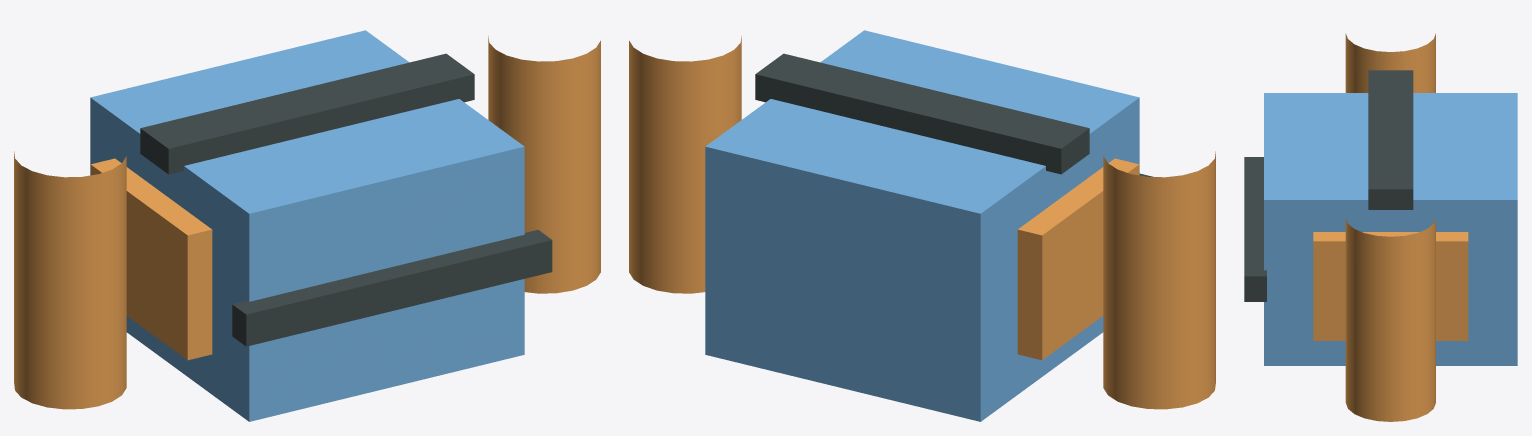
File: industrial-prop.glb
The picture shows the model from 3 angles, left to right: view 1: azimuth 30°, elevation 25°; view 2: azimuth 150°, elevation 25°; view 3: azimuth 270°, elevation 25°; orthographic projection. The views are drawn at different scales.
Parts seen in each view (by area): view 1: reinforced_crate_body, fuel_canister_a, fuel_canister_b, crate_top_strap, crate_front_strap, crate_side_marker_l; view 2: reinforced_crate_body, fuel_canister_a, fuel_canister_b, crate_top_strap, crate_side_marker_l; view 3: reinforced_crate_body, fuel_canister_b, crate_side_marker_r, crate_top_strap, fuel_canister_a, crate_front_strap.
Boxes of the visible parts, left/top/right/bottom form: reinforced_crate_body: left=90, top=30, right=524, bottom=421; fuel_canister_a: left=14, top=151, right=126, bottom=409; fuel_canister_b: left=488, top=36, right=600, bottom=293; crate_top_strap: left=140, top=53, right=474, bottom=174; crate_front_strap: left=232, top=230, right=552, bottom=346; crate_side_marker_l: left=90, top=158, right=212, bottom=360; reinforced_crate_body: left=705, top=30, right=1139, bottom=421; fuel_canister_a: left=1103, top=151, right=1215, bottom=409; fuel_canister_b: left=629, top=36, right=741, bottom=293; crate_top_strap: left=755, top=53, right=1089, bottom=174; crate_side_marker_l: left=1017, top=158, right=1139, bottom=360; reinforced_crate_body: left=1264, top=93, right=1517, bottom=365; fuel_canister_b: left=1345, top=218, right=1435, bottom=421; crate_side_marker_r: left=1313, top=232, right=1468, bottom=340; crate_top_strap: left=1368, top=70, right=1413, bottom=209; fuel_canister_a: left=1345, top=33, right=1435, bottom=92; crate_front_strap: left=1244, top=157, right=1266, bottom=301.
Bounding box in the file's own units: 3.74 × 1.47 × 1.94.
